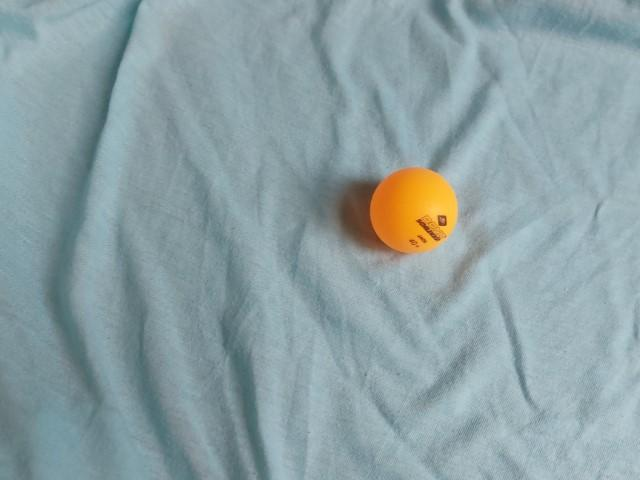oball: (364, 163, 467, 263)
